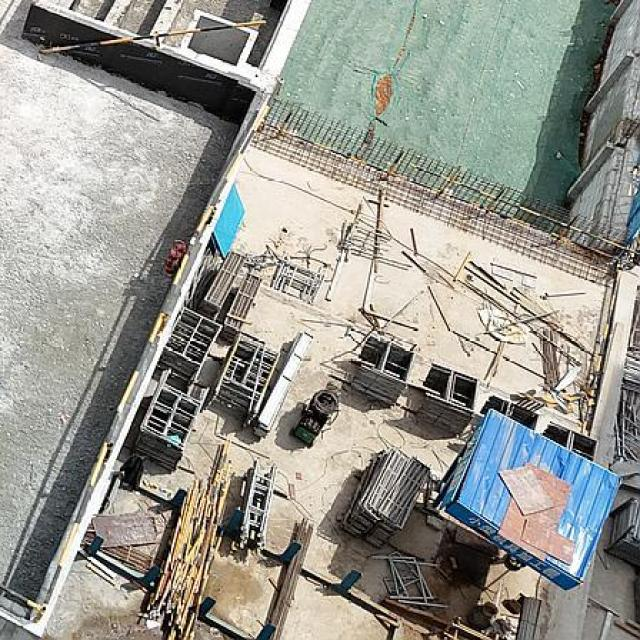edge_guardrail: (0, 77, 287, 623), (263, 109, 640, 271), (38, 20, 266, 56)
